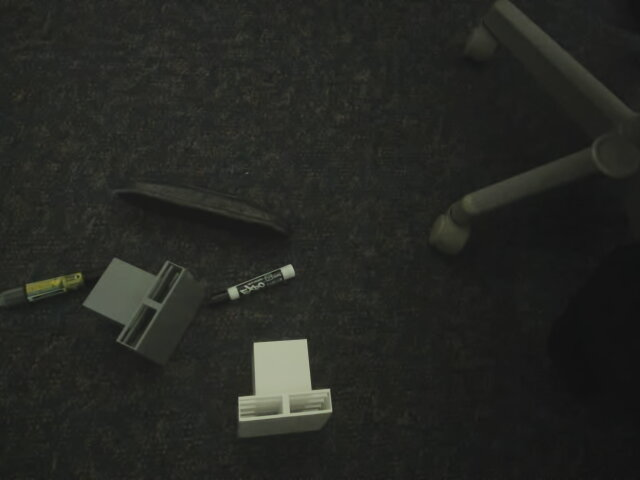grey pallet: (81, 251, 207, 361)
white pallet: (234, 333, 335, 438)
